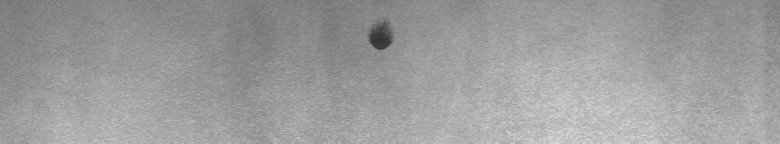fi: (364, 20, 397, 56)
